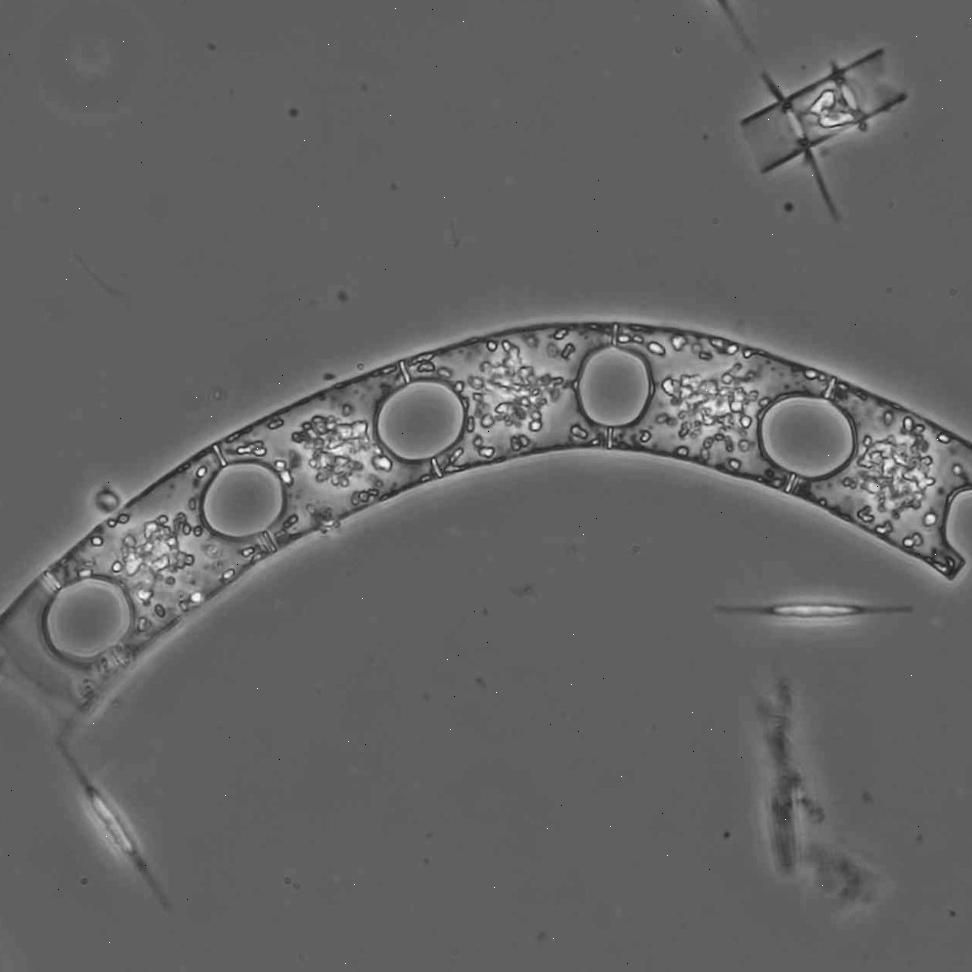eucampia_zodiacus: (0, 320, 972, 739)
